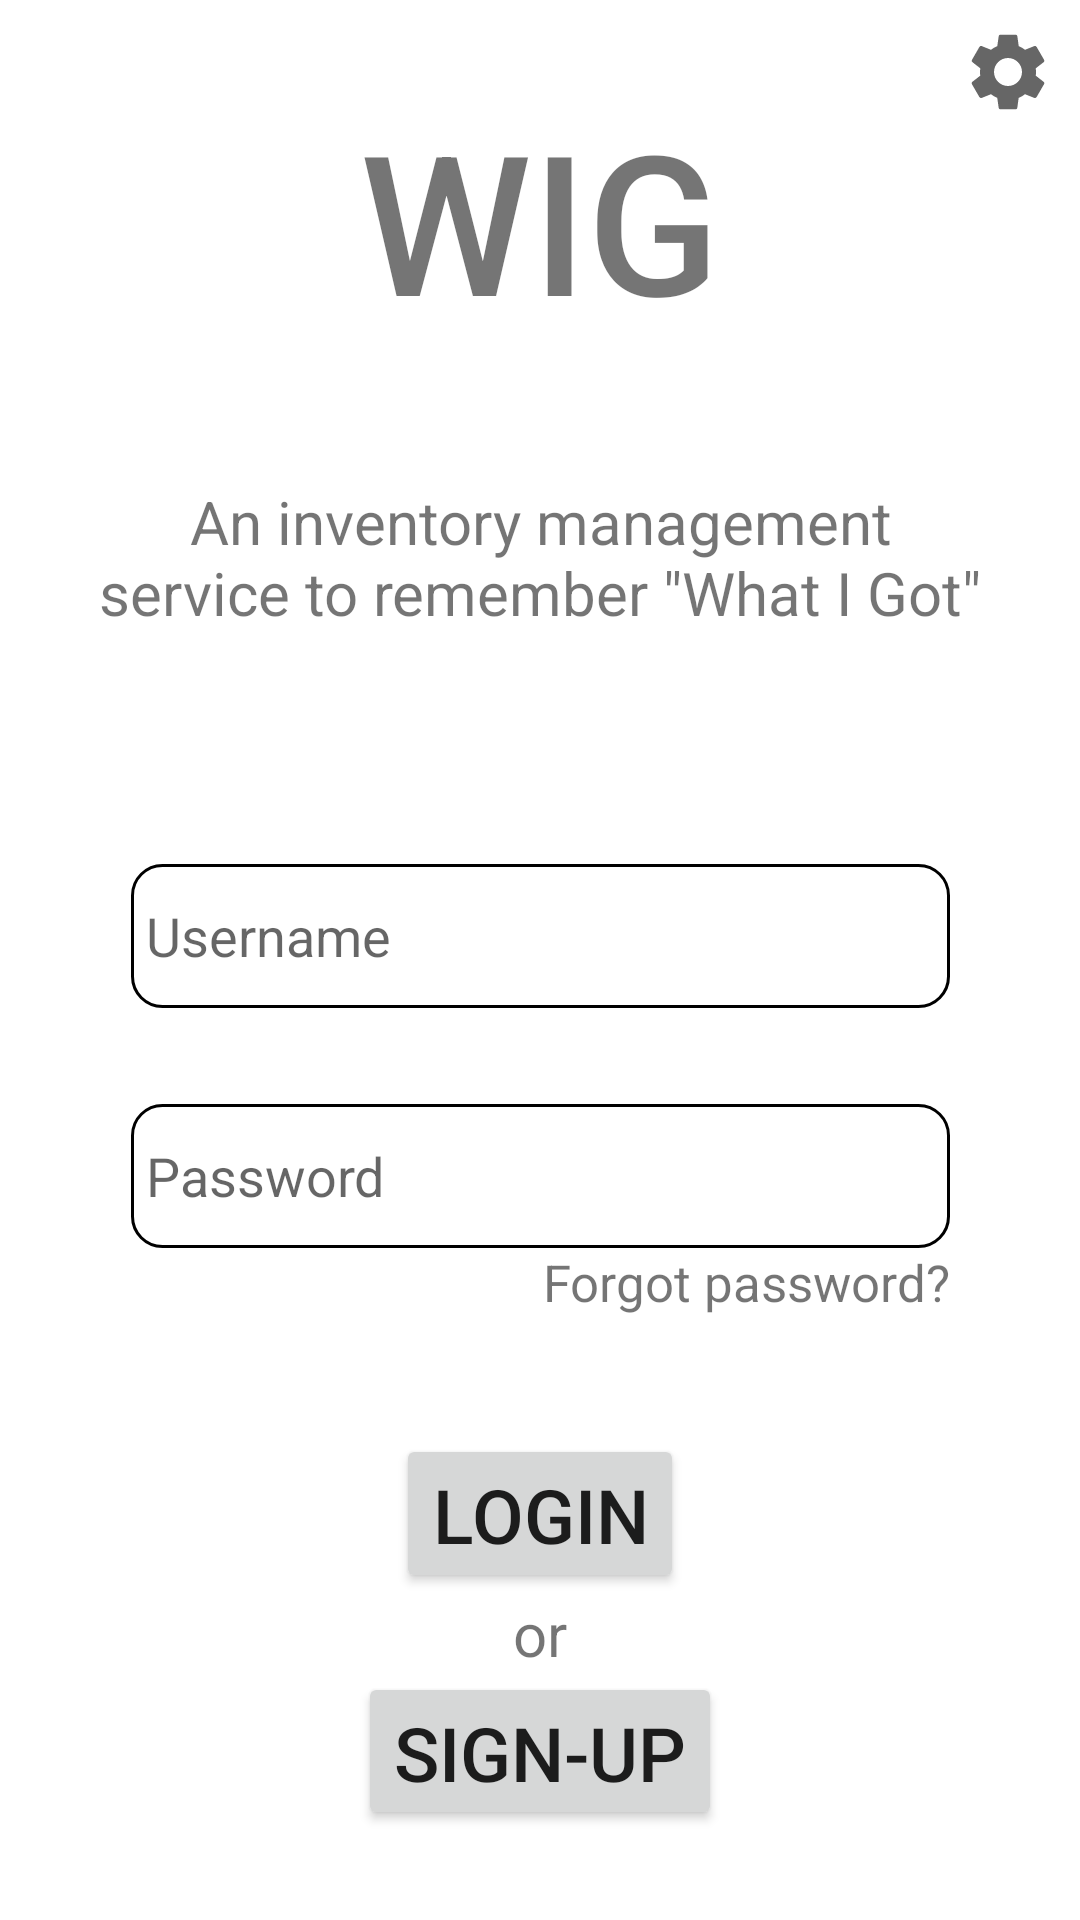

Screen size 1080*1920. Icon name, then its box in pixels as (x1, y1, x2, y2):
settings: (971, 34, 1045, 110)
